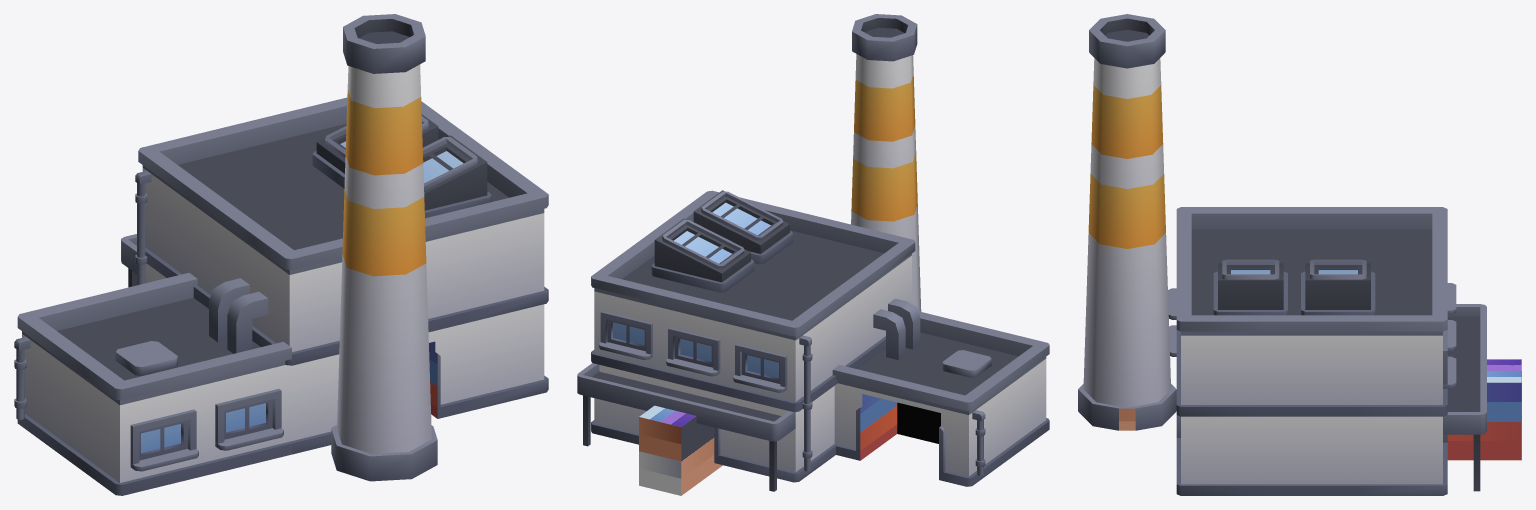
Rendered from building-l-enterable.glb.
3 renders of one model, left to right at view 1: azimuth 30°, elevation 25°; view 2: azimuth 150°, elevation 25°; view 3: azimuth 270°, elevation 25°, orthographic. The views are drawn at different scales.
Visible parts, largest first — view 1: building-l-enterable; view 2: building-l-enterable; view 3: building-l-enterable.
Part boxes in pixels (x1=…): building-l-enterable: x1=14, y1=14, x2=548, y2=495; building-l-enterable: x1=577, y1=14, x2=1049, y2=495; building-l-enterable: x1=1078, y1=14, x2=1521, y2=495.
Size of the model in its own units: 2.08 by 1.97 by 2.03.
Materials: 1 (1 with a texture image).
